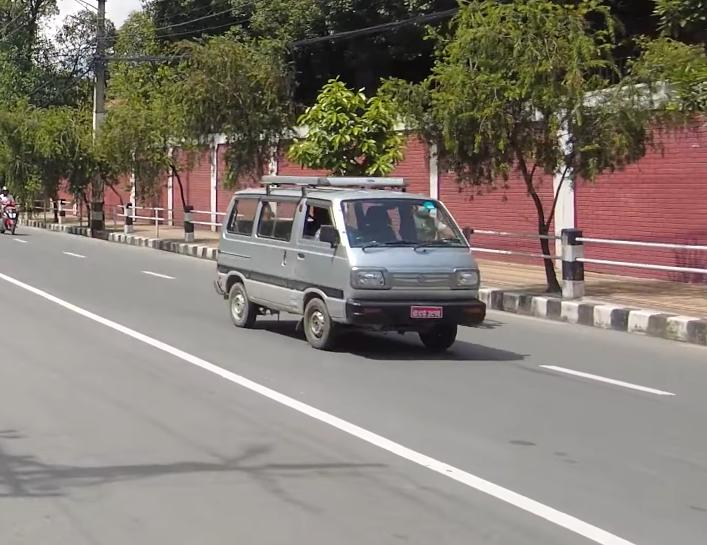van: (202, 170, 497, 361)
